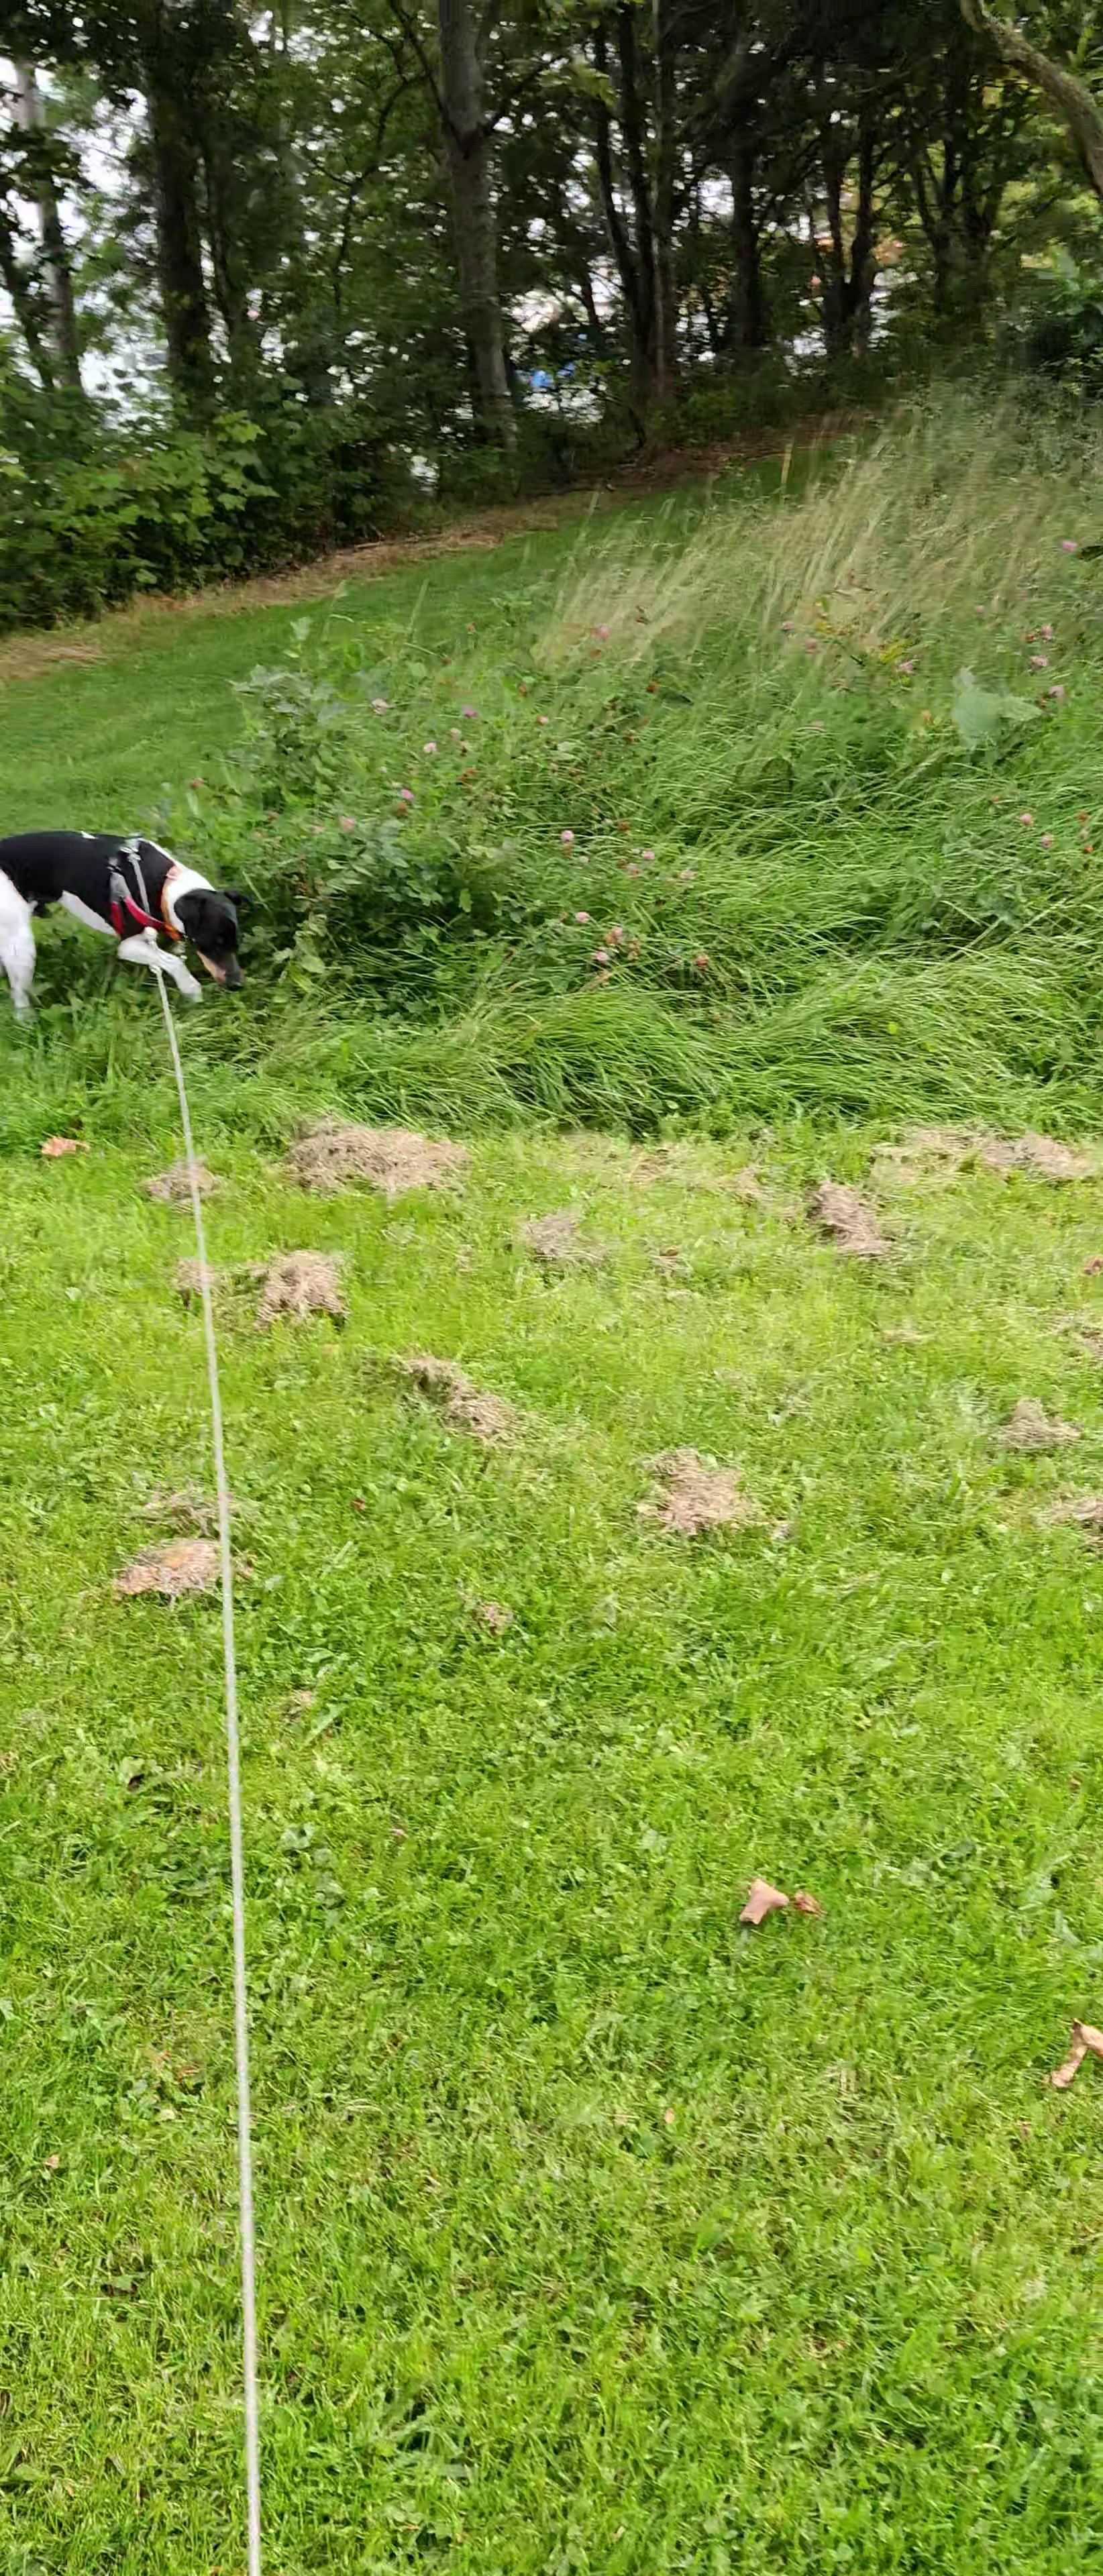Dog: (0, 816, 268, 1035)
